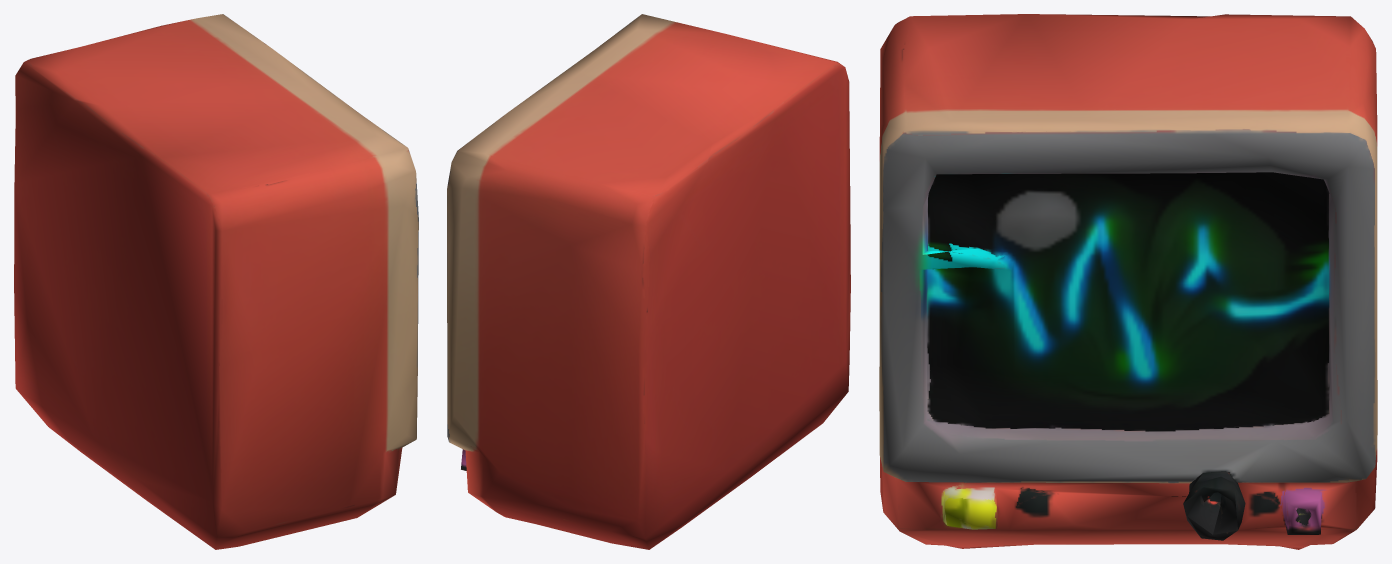
The model's file is oscilloscope.glb.
3 renders of one model, left to right at view 1: azimuth 30°, elevation 25°; view 2: azimuth 150°, elevation 25°; view 3: azimuth 270°, elevation 25°, orthographic. The views are drawn at different scales.
Visible parts, largest first — view 1: geometry_0.001; view 2: geometry_0.001; view 3: geometry_0.001.
Boxes of the visible parts, bbox=[...] form: geometry_0.001: bbox=[14, 14, 418, 549]; geometry_0.001: bbox=[447, 14, 850, 549]; geometry_0.001: bbox=[879, 14, 1377, 549].
Size of the model in its own units: 0.6659 by 0.9975 by 0.9995.
Materials: 1 (1 with a texture image).
